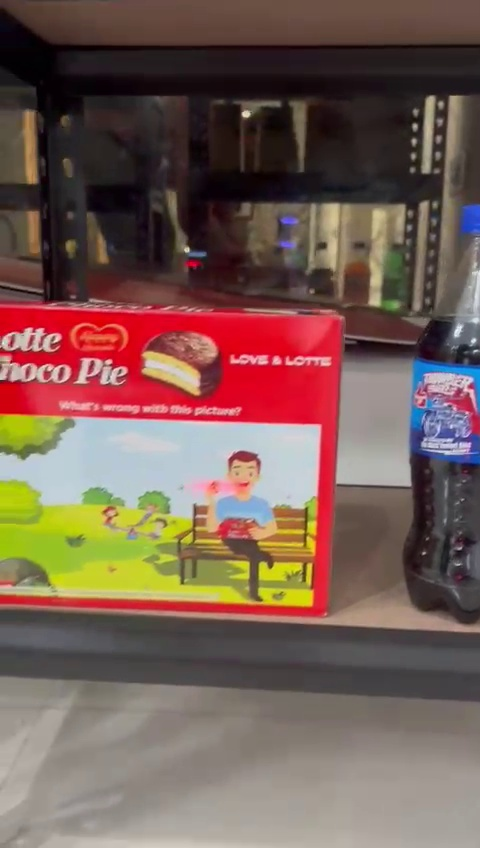Lotte Chocopie: (1, 300, 330, 611)
